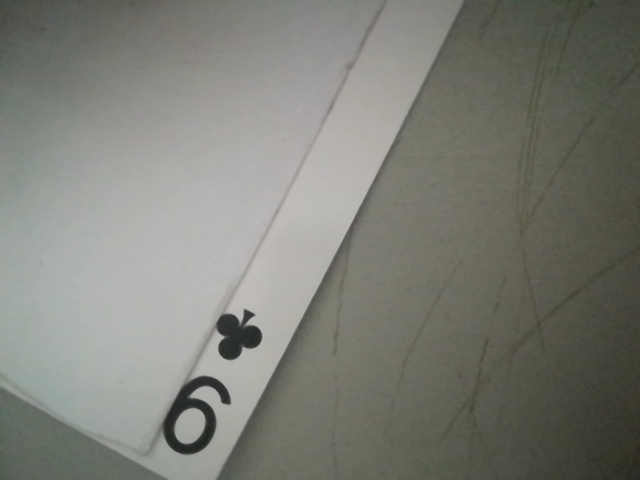mh 9: (148, 299, 273, 472)
